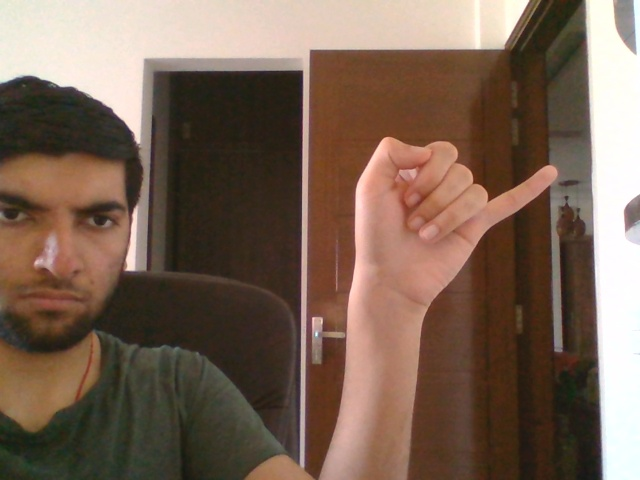LetterJ: (352, 136, 559, 309)
